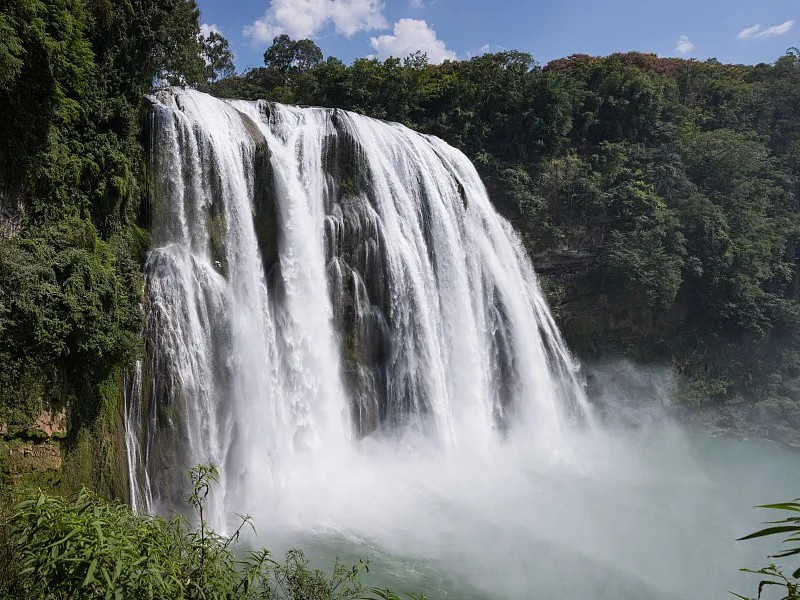Huangguoshu: (125, 83, 590, 511)
